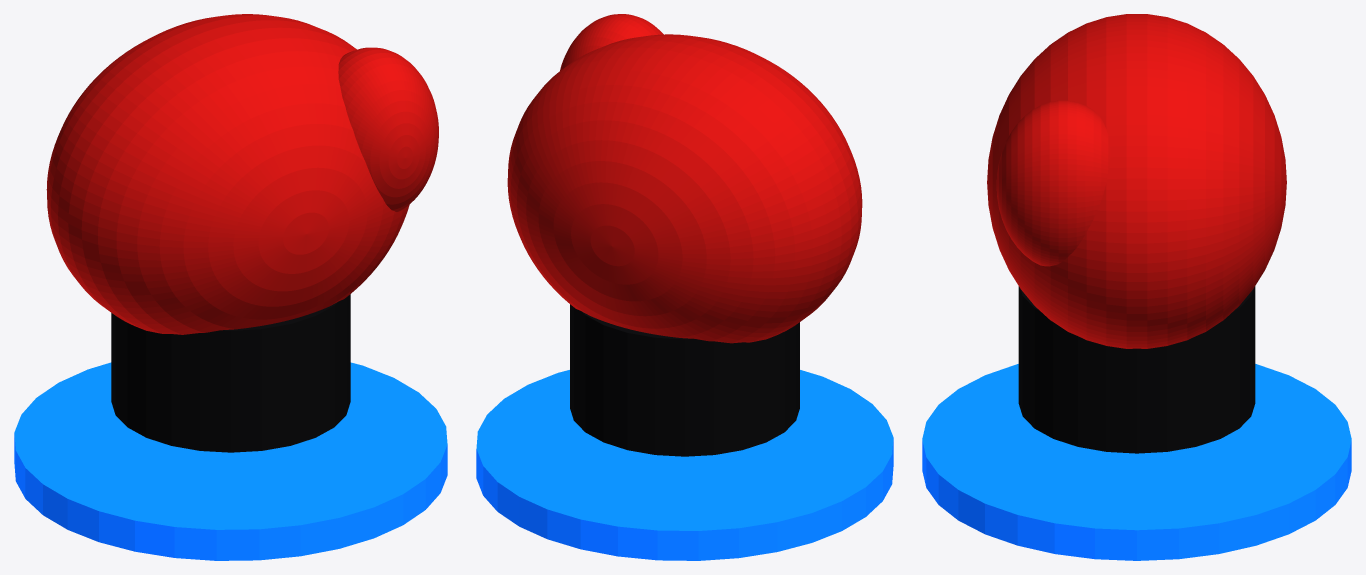
File: sports_boxing_glove.dae
3 renders of one model, left to right at view 1: azimuth 30°, elevation 25°; view 2: azimuth 150°, elevation 25°; view 3: azimuth 270°, elevation 25°, orthographic. The views are drawn at different scales.
Parts seen in each view (by area): view 1: 04_08_Popular_Sports_Boxing_Glove_part_01, 04_08_Popular_Sports_Boxing_Glove_ROOT_base, 04_08_Popular_Sports_Boxing_Glove_part_03, 04_08_Popular_Sports_Boxing_Glove_part_02; view 2: 04_08_Popular_Sports_Boxing_Glove_part_01, 04_08_Popular_Sports_Boxing_Glove_ROOT_base, 04_08_Popular_Sports_Boxing_Glove_part_03, 04_08_Popular_Sports_Boxing_Glove_part_02; view 3: 04_08_Popular_Sports_Boxing_Glove_part_01, 04_08_Popular_Sports_Boxing_Glove_ROOT_base, 04_08_Popular_Sports_Boxing_Glove_part_03, 04_08_Popular_Sports_Boxing_Glove_part_02.
Part boxes in pixels (box(x1,y1,x2,y2)): 04_08_Popular_Sports_Boxing_Glove_part_01: box(46, 14, 409, 334); 04_08_Popular_Sports_Boxing_Glove_ROOT_base: box(14, 362, 447, 560); 04_08_Popular_Sports_Boxing_Glove_part_03: box(111, 294, 350, 452); 04_08_Popular_Sports_Boxing_Glove_part_02: box(338, 47, 438, 211); 04_08_Popular_Sports_Boxing_Glove_part_01: box(507, 34, 862, 343); 04_08_Popular_Sports_Boxing_Glove_ROOT_base: box(476, 370, 893, 560); 04_08_Popular_Sports_Boxing_Glove_part_03: box(570, 304, 799, 456); 04_08_Popular_Sports_Boxing_Glove_part_02: box(560, 14, 663, 70); 04_08_Popular_Sports_Boxing_Glove_part_01: box(987, 14, 1286, 348); 04_08_Popular_Sports_Boxing_Glove_ROOT_base: box(922, 364, 1351, 560); 04_08_Popular_Sports_Boxing_Glove_part_03: box(1018, 286, 1255, 453); 04_08_Popular_Sports_Boxing_Glove_part_02: box(996, 100, 1110, 266).
Size of the model in its own units: 0.76 by 0.85 by 0.76.
